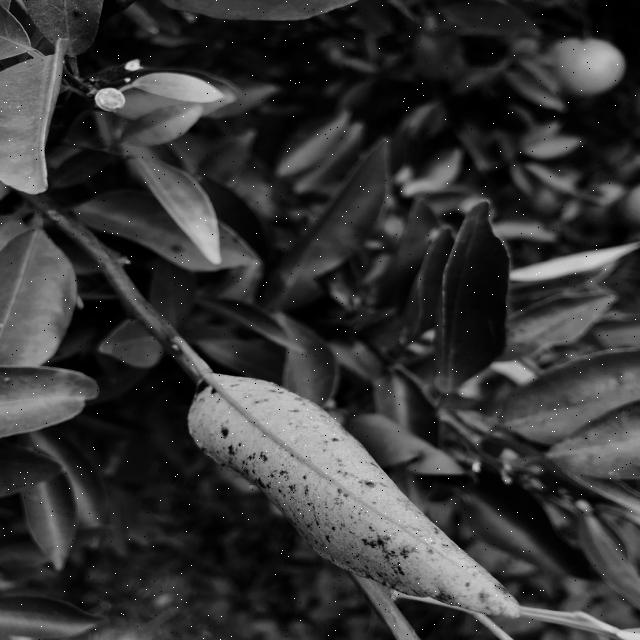melanose: (185, 366, 563, 638)
